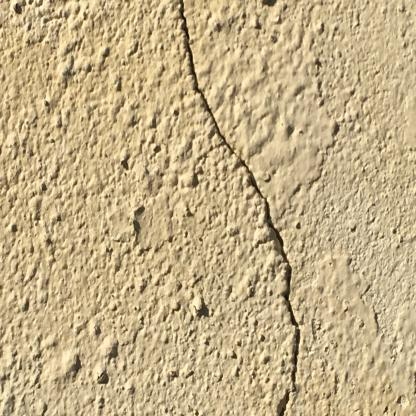crack: (177, 4, 301, 411)
